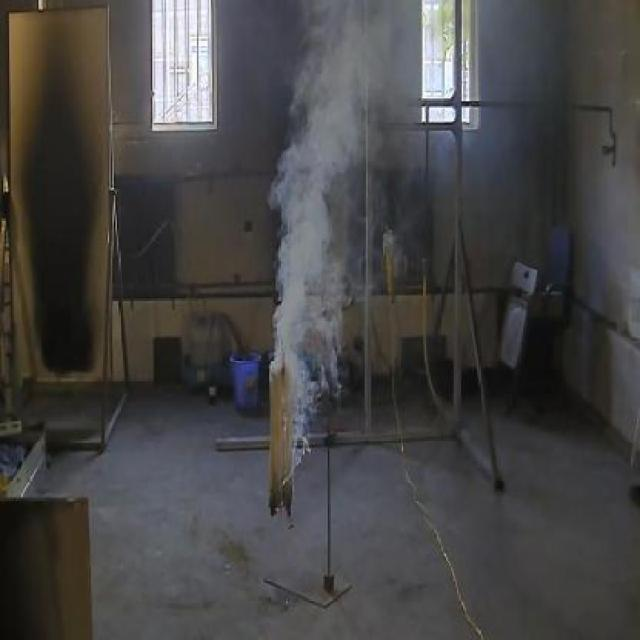fire: (264, 1, 407, 327)
